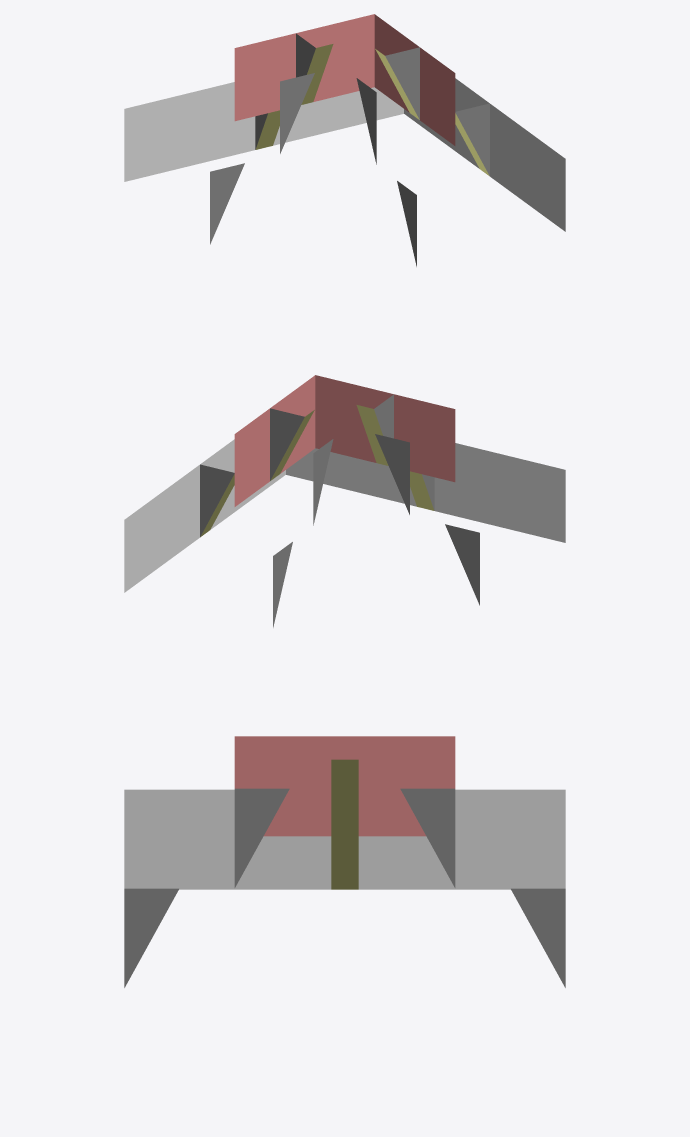
The model's file is SSQ_dungeon_S__SSQ_Room03_Top.gltf.
3 views of the same model, one above another, from view 1: azimuth 30°, elevation 25°; view 2: azimuth 150°, elevation 25°; view 3: azimuth 270°, elevation 25° (orthographic). The views are drawn at different scales.
Parts seen in each view (by area): view 1: SSQ_Room03_Top; view 2: SSQ_Room03_Top; view 3: SSQ_Room03_Top.
Boxes of the visible parts, x1,y1,x2,y2 form: SSQ_Room03_Top: (124,14,565,266); SSQ_Room03_Top: (124,375,565,627); SSQ_Room03_Top: (124,736,565,987).
Size of the model in its own units: 7.68 by 2.56 by 7.68.
